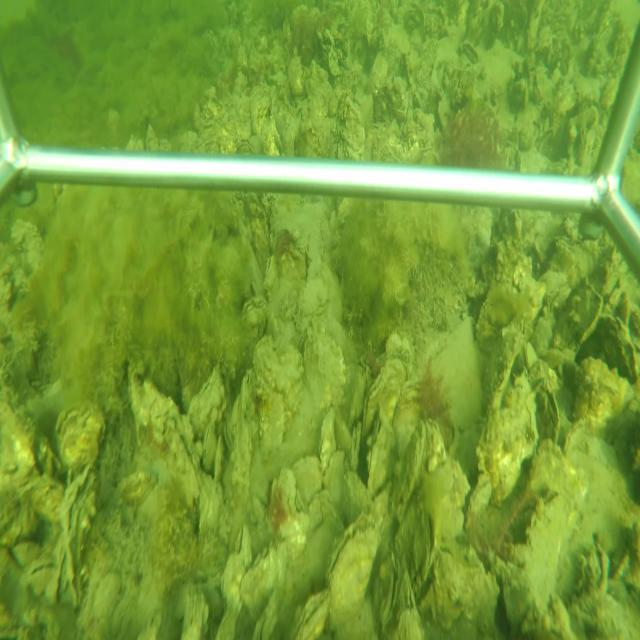Oyster-Closed: (502, 490, 572, 626), (253, 240, 310, 402), (137, 399, 201, 531), (327, 502, 388, 627), (214, 520, 254, 637), (358, 356, 405, 449), (240, 538, 289, 622), (227, 372, 257, 505), (65, 467, 94, 594), (392, 420, 427, 520), (186, 360, 230, 428), (408, 503, 434, 591), (292, 587, 329, 638), (315, 403, 338, 474), (379, 558, 399, 629), (202, 421, 216, 471)
Oyster-Indeterminate: (476, 367, 536, 505), (291, 317, 346, 451), (474, 249, 546, 346), (56, 402, 106, 466), (293, 454, 323, 503)
Oyster-Open: (569, 308, 639, 429), (457, 39, 481, 63)
